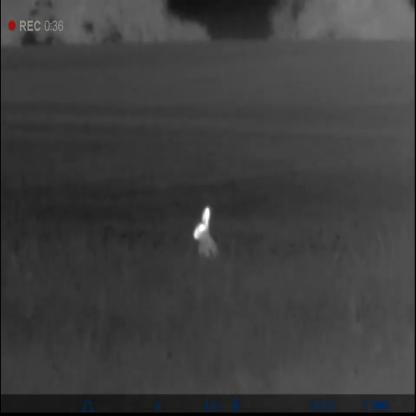rehkitze: (192, 206, 219, 257)
